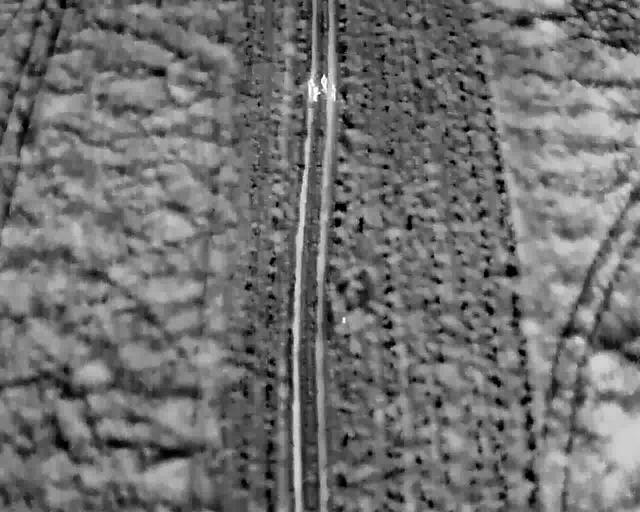person: (312, 83, 323, 103), (306, 78, 317, 98), (319, 72, 329, 92), (330, 82, 338, 102)
